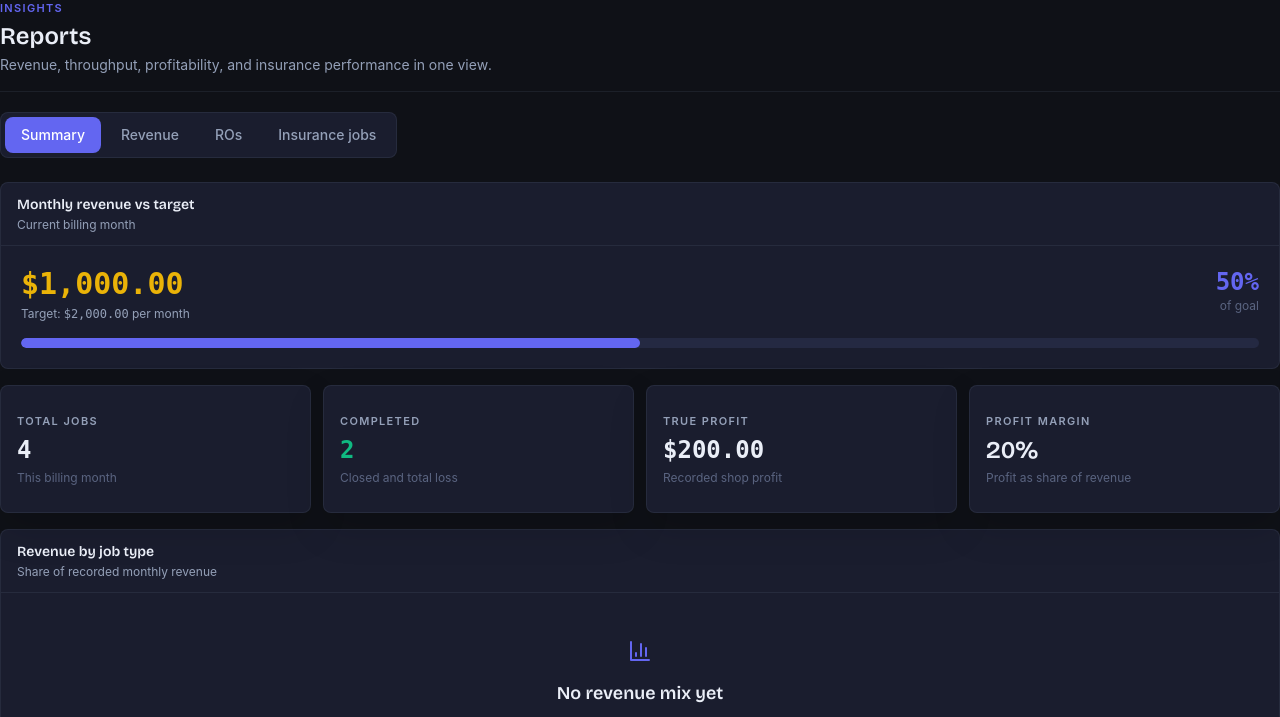
Test case: Phase 6B financial surfaces › preserves report endpoints and renders dollar APIs through Money
The image size is (1280, 717).
Expected: the text "$1,000.00" is shown, [21, 266, 184, 301]
Expected: the text "Target: $2,000.00 per month" is shown, [21, 306, 190, 322]
Click the tab "Revenue": click(150, 135) [105, 117, 195, 153]
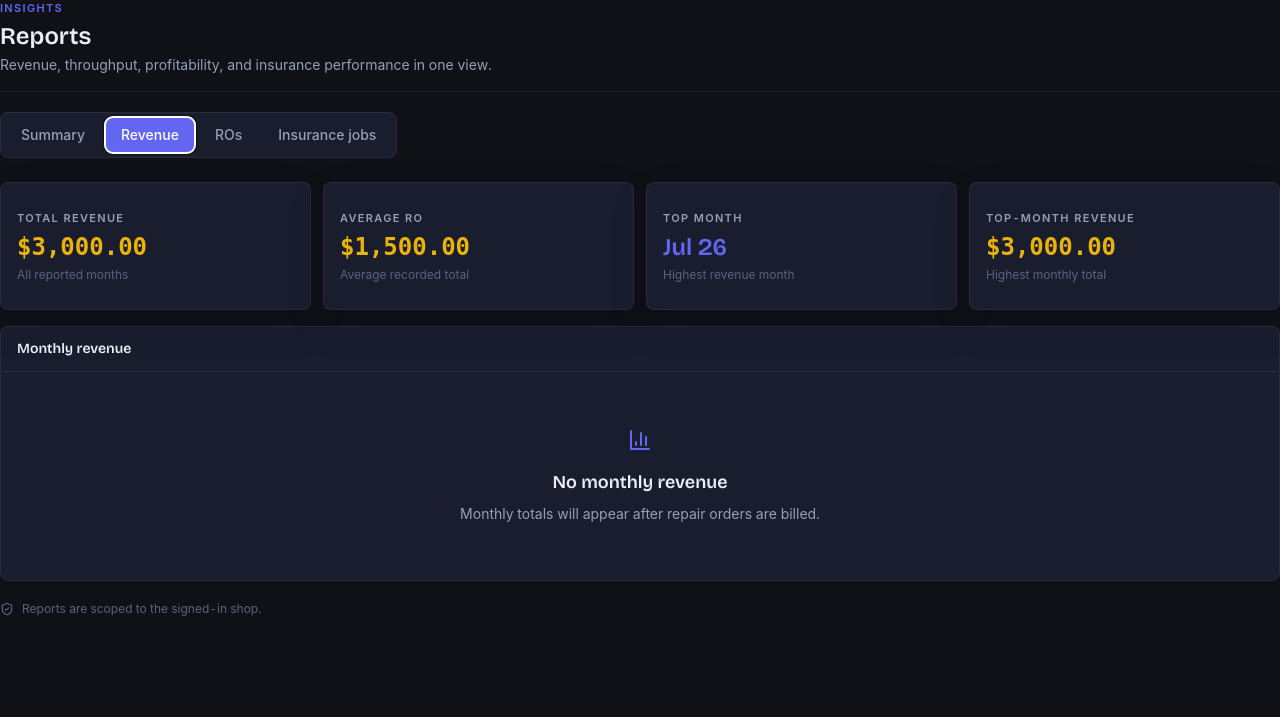
Now the text "$3,000.00" below "Total revenue" is shown, box [17, 233, 147, 261]
